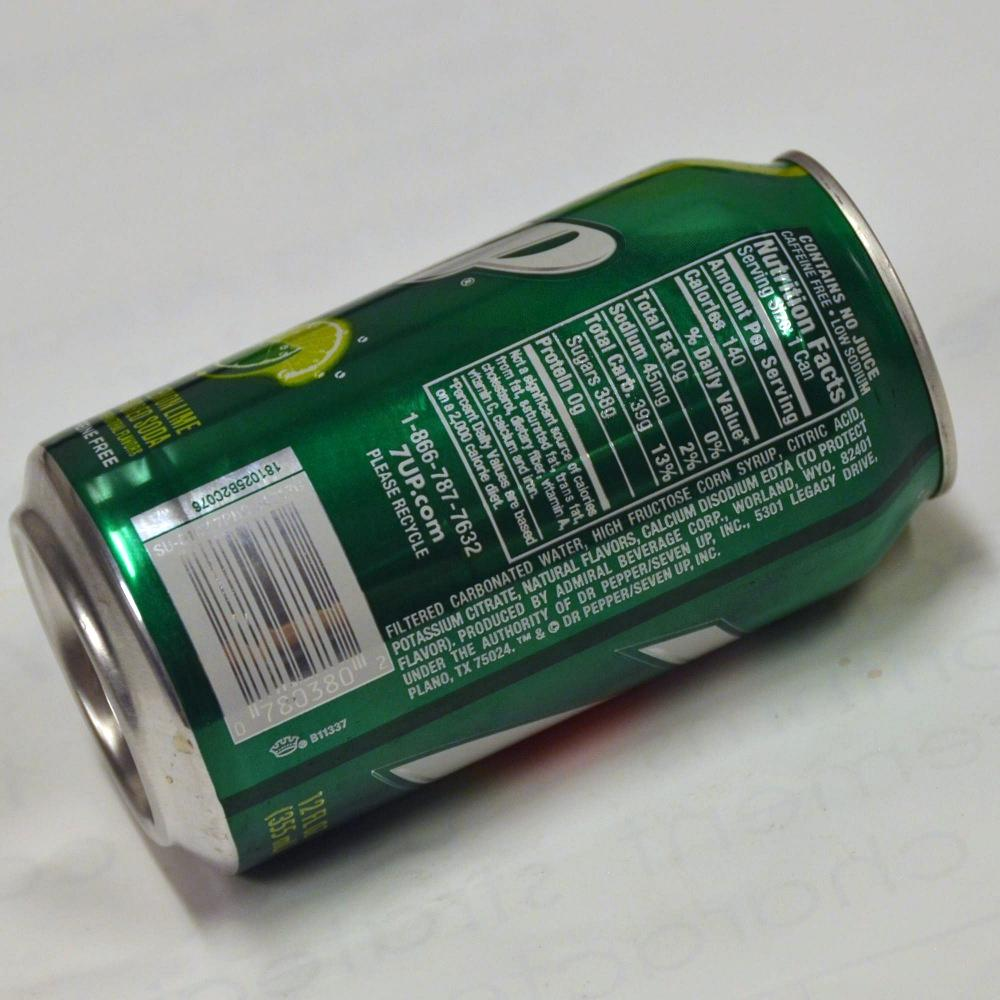Metal: (48, 108, 891, 895)
